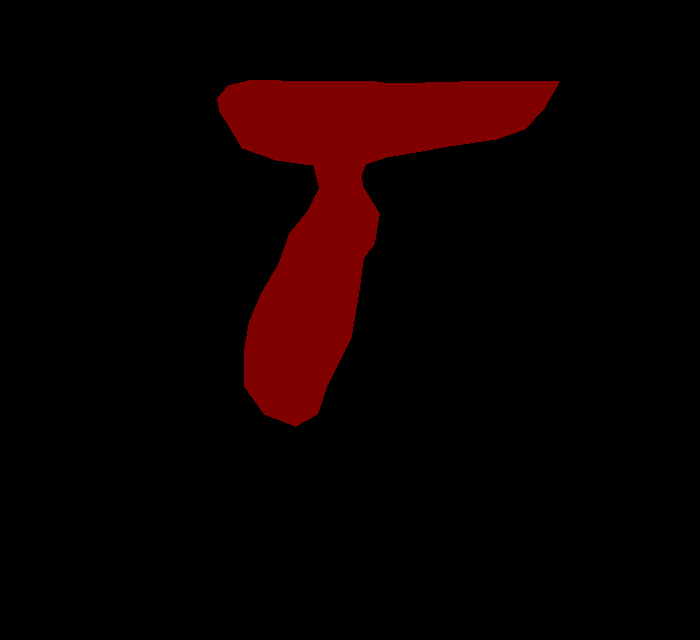fire: (217, 80, 559, 426)
